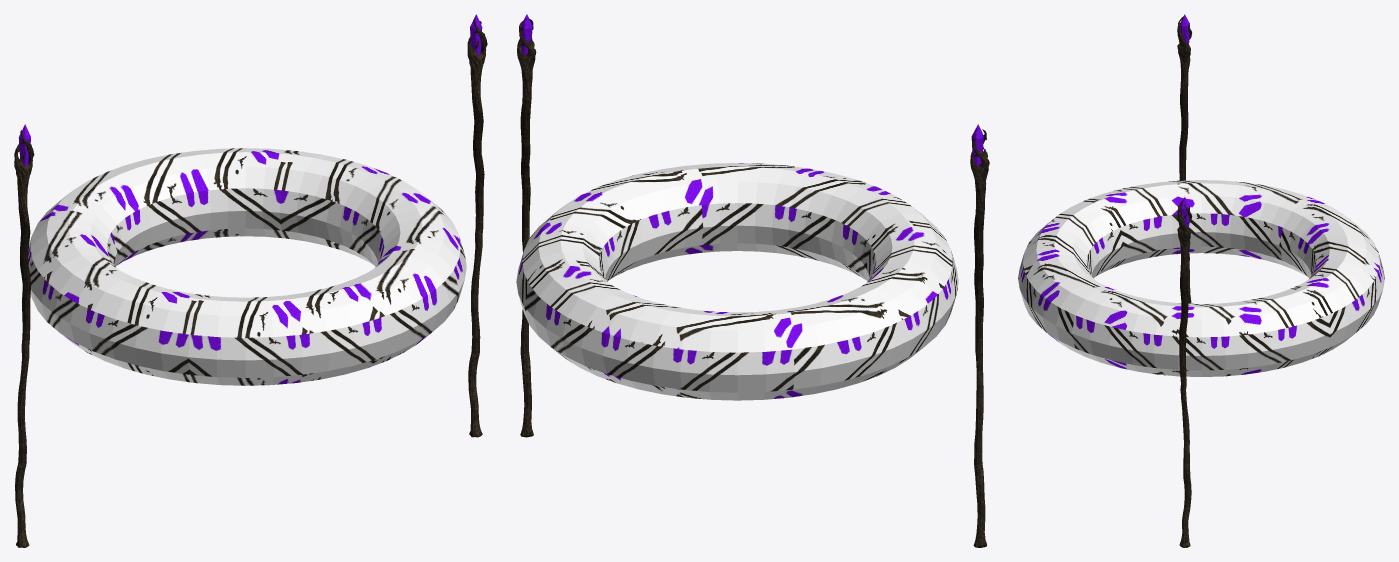
Rendered from portalRing.obj.
3 views of the same model, side by side, from view 1: azimuth 30°, elevation 25°; view 2: azimuth 150°, elevation 25°; view 3: azimuth 270°, elevation 25° (orthographic). The views are drawn at different scales.
Parts seen in each view (by area): view 1: staff.004; view 2: staff.004; view 3: staff.004.
Boxes of the visible parts, x1=… form: staff.004: x1=14, y1=19, x2=487, y2=547; staff.004: x1=516, y1=18, x2=989, y2=547; staff.004: x1=1018, y1=16, x2=1384, y2=547.
Size of the model in its own units: 6.7 by 5.74 by 5.45.
2 materials, 2 textured.
